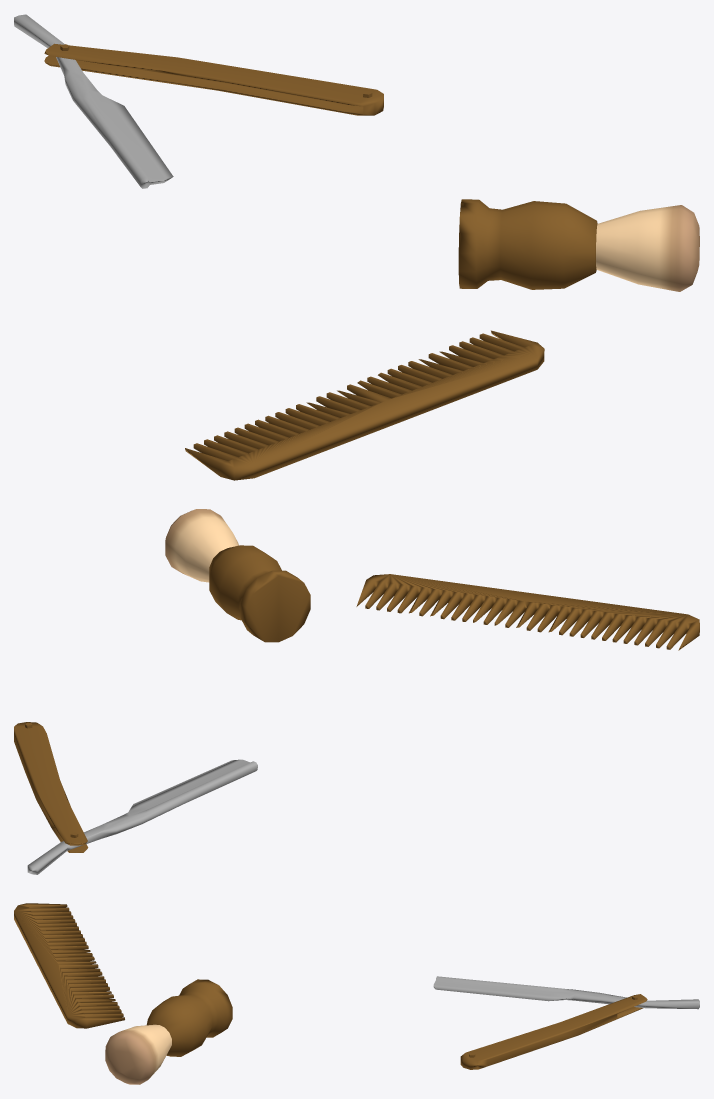
The picture shows the model from 3 angles, top to bottom: view 1: azimuth 30°, elevation 25°; view 2: azimuth 150°, elevation 25°; view 3: azimuth 270°, elevation 25°; orthographic projection. The views are drawn at different scales.
Parts seen in each view (by area): view 1: AntiqueShavingKit; view 2: AntiqueShavingKit; view 3: AntiqueShavingKit.
Boxes of the visible parts, x1=… form: AntiqueShavingKit: x1=14, y1=14, x2=699, y2=480; AntiqueShavingKit: x1=14, y1=509, x2=699, y2=874; AntiqueShavingKit: x1=14, y1=903, x2=699, y2=1084.
Bounding box in the file's own units: 0.4684 × 0.0642 × 0.7397.
Materials: 2 (2 with a texture image).
